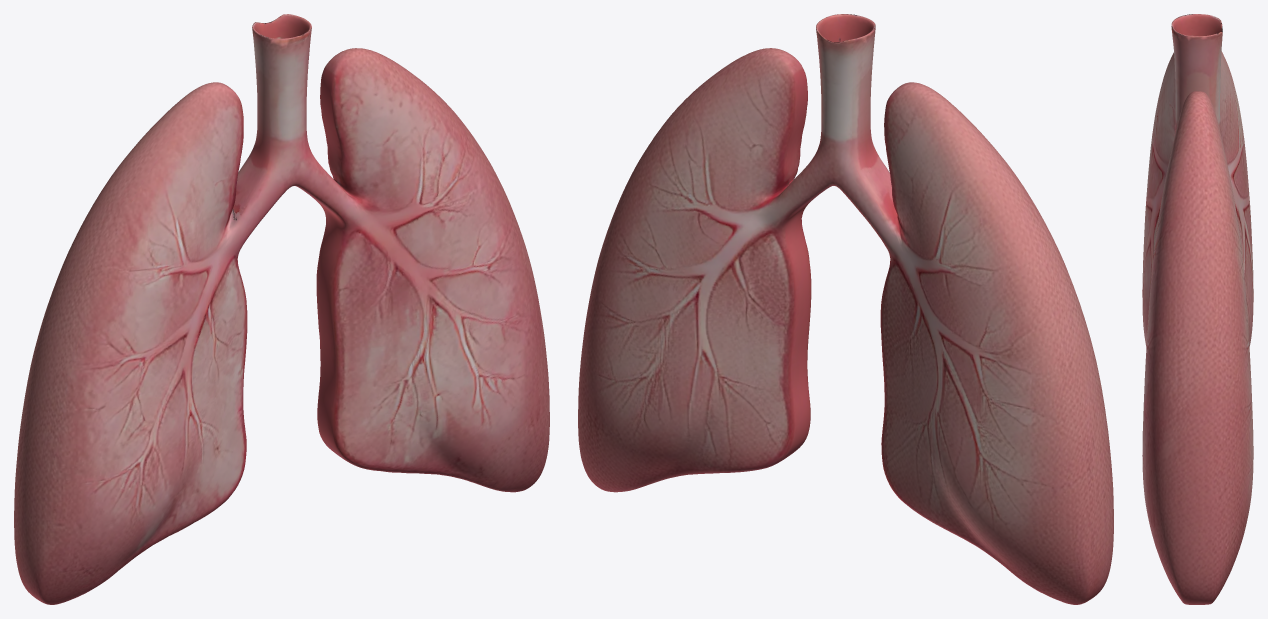
File: horse_lungs.glb
3 views of the same model, side by side, from view 1: azimuth 30°, elevation 25°; view 2: azimuth 150°, elevation 25°; view 3: azimuth 270°, elevation 25° (orthographic). The views are drawn at different scales.
Visible parts, largest first — view 1: model; view 2: model; view 3: model.
Boxes of the visible parts, x1=… form: model: x1=14, y1=14, x2=549, y2=604; model: x1=578, y1=14, x2=1113, y2=604; model: x1=1142, y1=14, x2=1253, y2=604.
Size of the model in its own units: 1.9 by 1.8 by 0.3837.
1 material, 1 textured.
